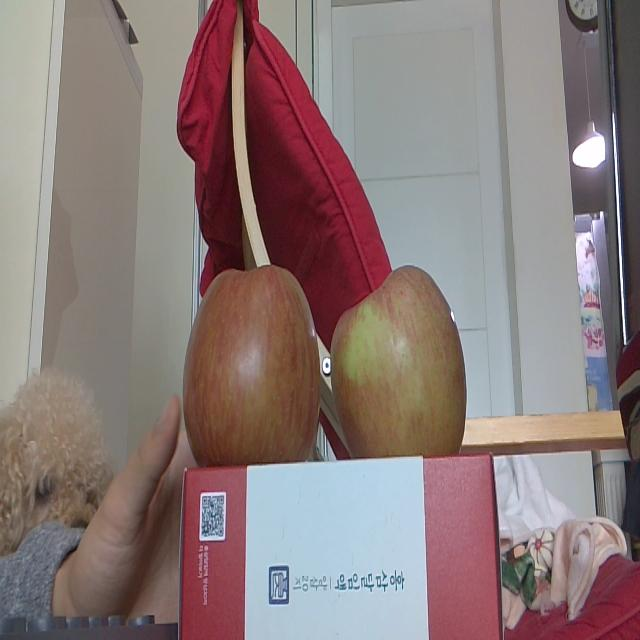apple: (182, 266, 322, 466), (329, 263, 467, 458)
